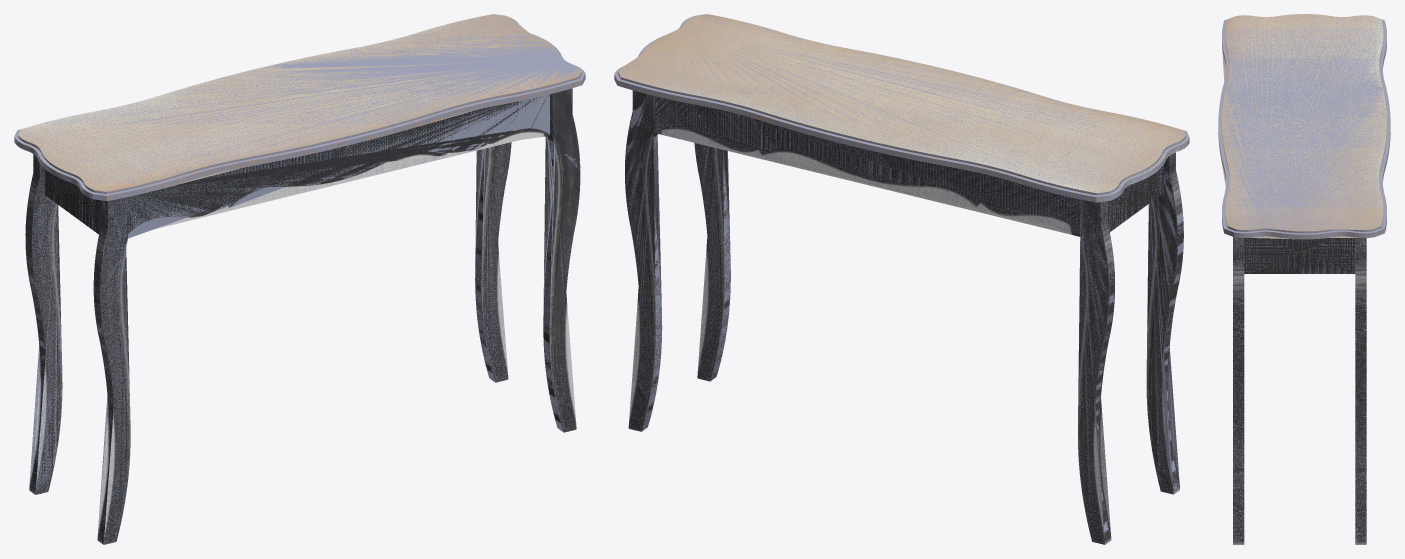
The model's file is prop_console_versailles.fbx.
The picture shows the model from 3 angles, left to right: view 1: azimuth 30°, elevation 25°; view 2: azimuth 150°, elevation 25°; view 3: azimuth 270°, elevation 25°; orthographic projection. The views are drawn at different scales.
Parts seen in each view (by area): view 1: Group2, Group8, Group3, Group4, Group5, Group6, Group1; view 2: Group2, Group7, Group5, Group6, Group3, Group4, Group1; view 3: Group2, Group1, Group4, Group6.
Boxes of the visible parts, x1,y1,x2,y2 form: Group2: [14, 14, 585, 200]; Group8: [127, 94, 550, 238]; Group3: [93, 197, 130, 544]; Group4: [543, 88, 580, 432]; Group5: [25, 154, 62, 494]; Group6: [475, 142, 511, 382]; Group1: [45, 169, 101, 234]; Group2: [614, 14, 1189, 202]; Group7: [655, 96, 1080, 236]; Group5: [1078, 199, 1114, 544]; Group6: [625, 90, 662, 431]; Group3: [1146, 152, 1183, 494]; Group4: [694, 143, 730, 381]; Group1: [1107, 164, 1163, 231]; Group2: [1218, 14, 1390, 239]; Group1: [1244, 238, 1355, 273]; Group4: [1233, 237, 1244, 544]; Group6: [1355, 238, 1366, 544].
Size of the model in its own units: 1.16 by 0.78 by 0.3825.
